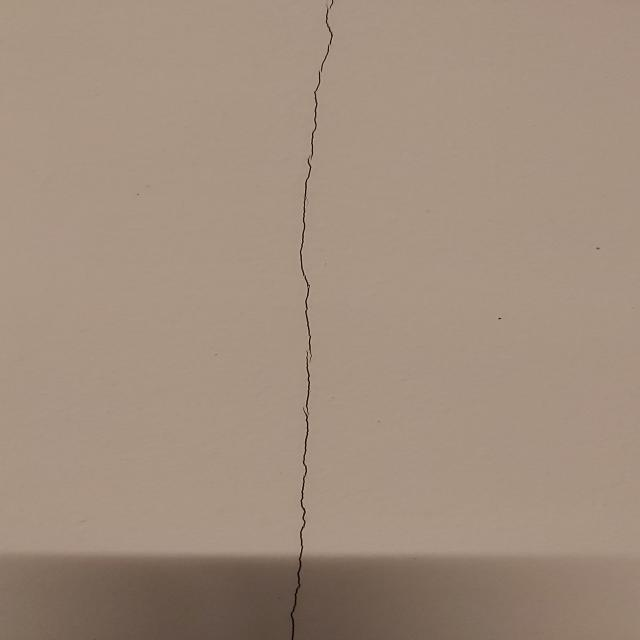Crack: (283, 2, 339, 632)
